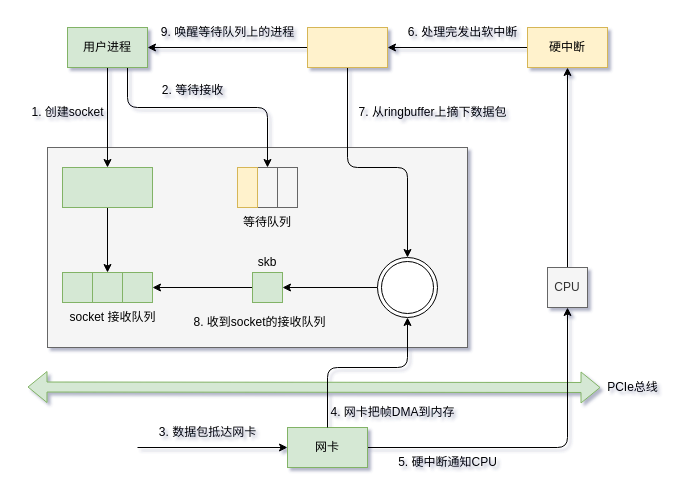
This 690x500 diagram has some shape labels left out. The shapes that lost their labels are listed below. From the top down, each one's centre as x and y in pixels, then its label:
pixel 347 47: ksoftirqd 内核线程
pixel 107 187: socket 内核对象
